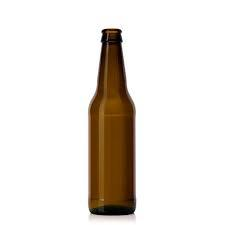Glass bottle: (69, 15, 160, 225)
